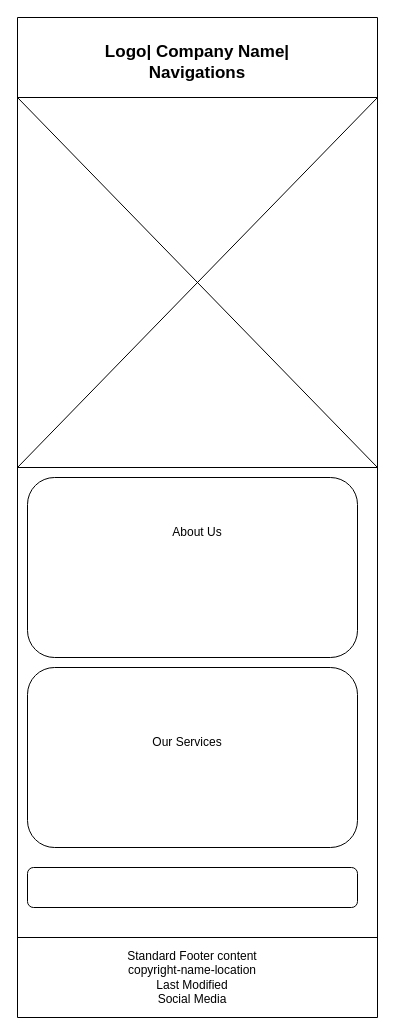
Image size: 396x1036. Some labels were removed from this diagram. Each missing label, with the centre of its shape:
Hero Image: [197,282]
Tell Us Your Requirements: [192,887]
